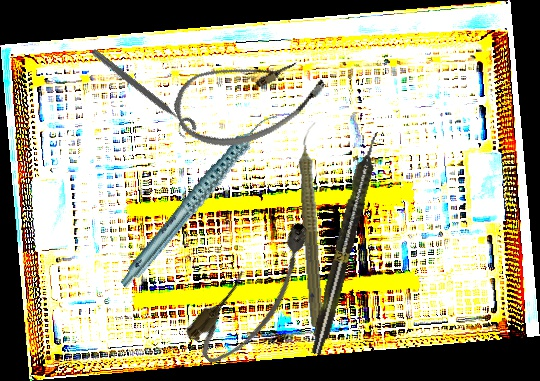Cannula: (179, 213, 333, 374), (165, 29, 334, 165)
Fixation Ring: (84, 45, 200, 142)
Handpiece: (90, 108, 308, 290), (306, 129, 386, 357), (292, 120, 332, 328)
